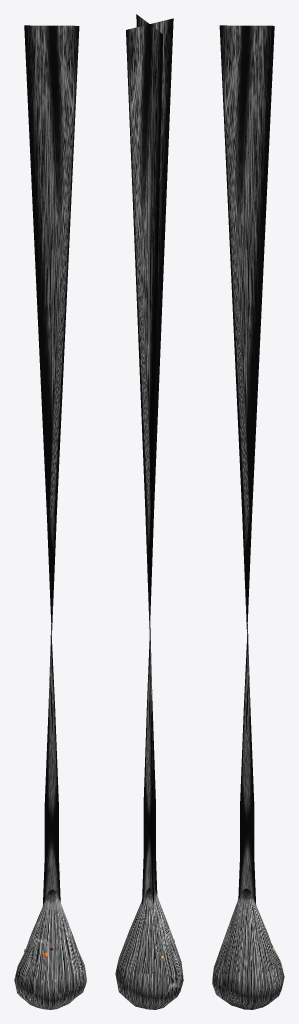
The model's file is INST_SB_DWARFCOCOON_FALL.fbx.
3 views of the same model, side by side, from view 1: azimuth 90°, elevation 25°; view 2: azimuth 210°, elevation 25°; view 3: azimuth 270°, elevation 25° (orthographic).
Parts seen in each view (by area): view 1: INST_SB_DWARFCOCOON_FALL; view 2: INST_SB_DWARFCOCOON_FALL; view 3: INST_SB_DWARFCOCOON_FALL.
Boxes of the visible parts, x1,y1,x2,y2 form: INST_SB_DWARFCOCOON_FALL: (14,25,86,1009); INST_SB_DWARFCOCOON_FALL: (115,14,183,1009); INST_SB_DWARFCOCOON_FALL: (212,25,284,1009).
Bounding box in the file's own units: 8639 × 137464 × 9202.
5 materials, 5 textured.
